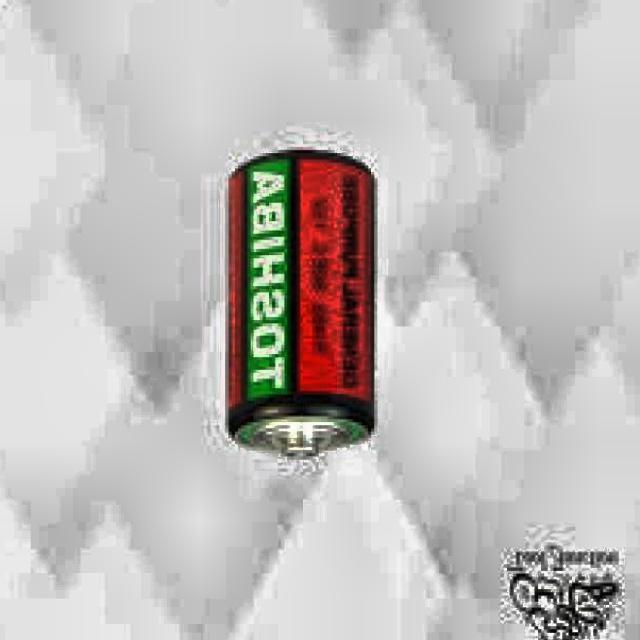battery: (227, 150, 377, 458)
